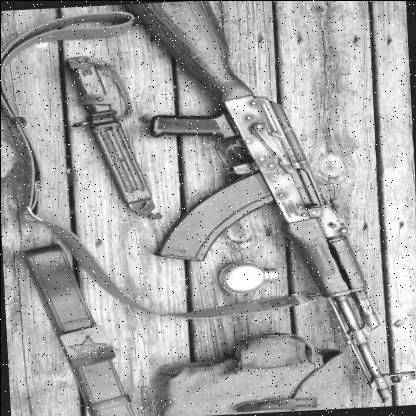rifle: (115, 0, 416, 416)
